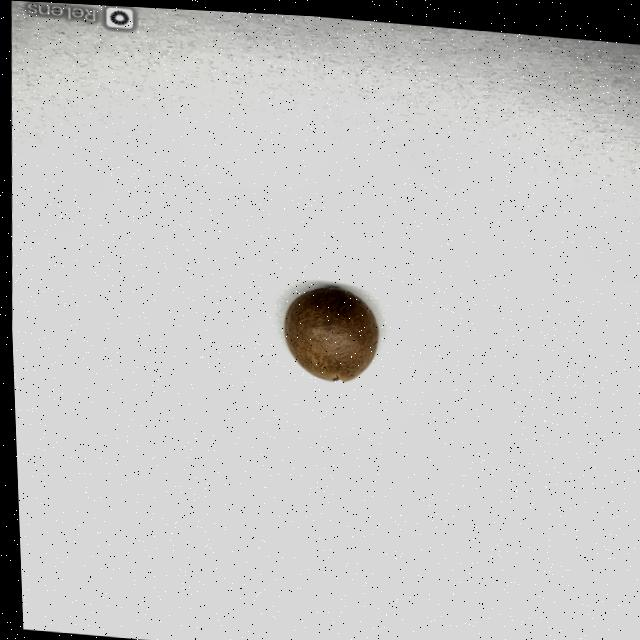Good bean: (280, 280, 378, 383)
